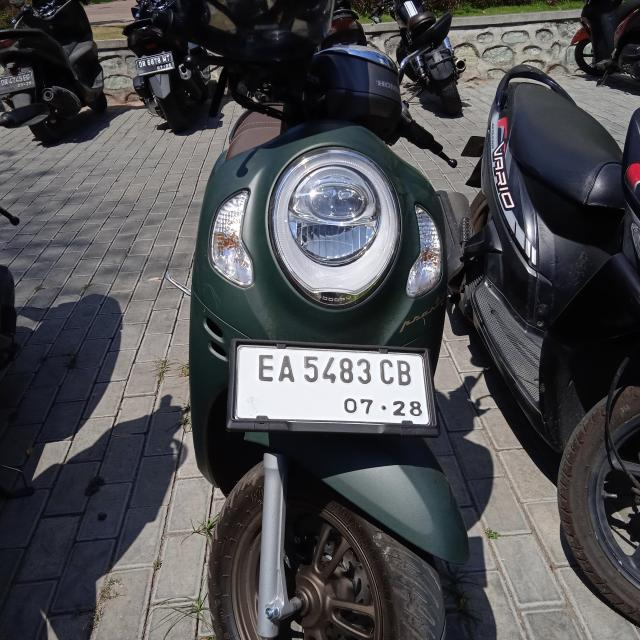plate: (229, 336, 442, 434), (135, 52, 176, 78)
